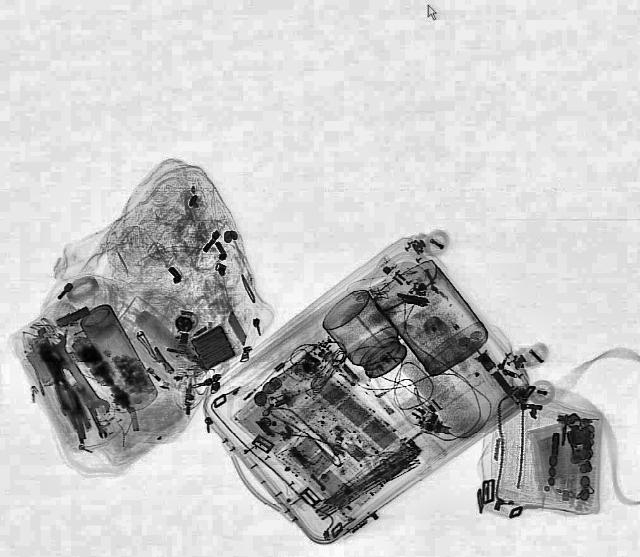Wrench: (40, 331, 116, 421), (80, 406, 110, 439)
